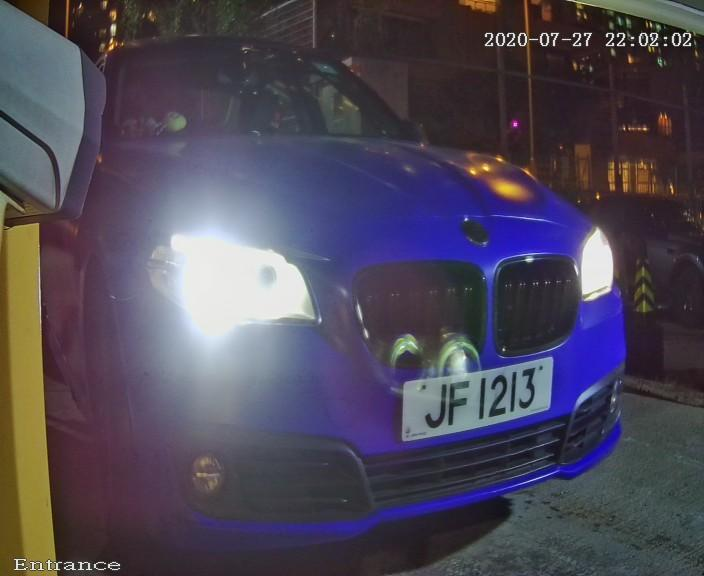privatecar: (60, 1, 651, 576)
